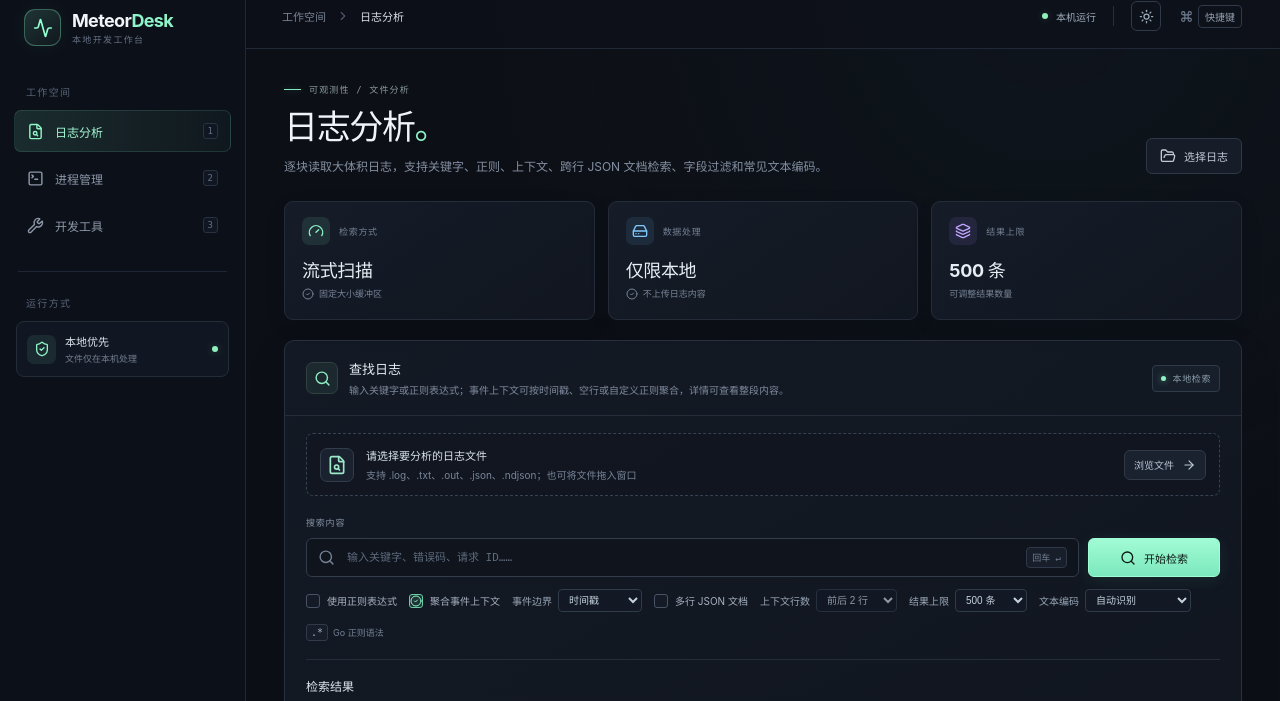
Test: log search options › stores bookmarks locally and can show only bookmarked results
This screenshot has width=1280, height=701.
Click the button "选择日志" at (1194, 156), box left=1146, top=138, right=1242, bottom=174
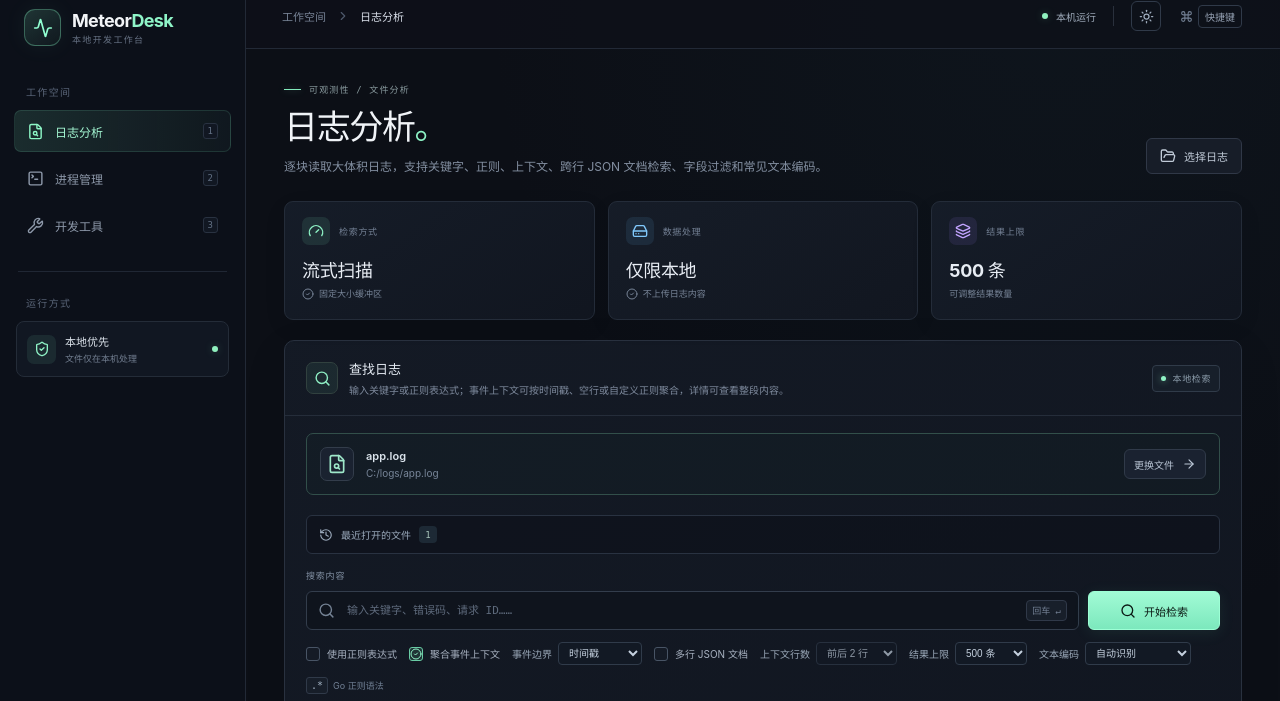
Type "boom" into the field with id "search-query" at (681, 611), box left=345, top=592, right=1016, bottom=629
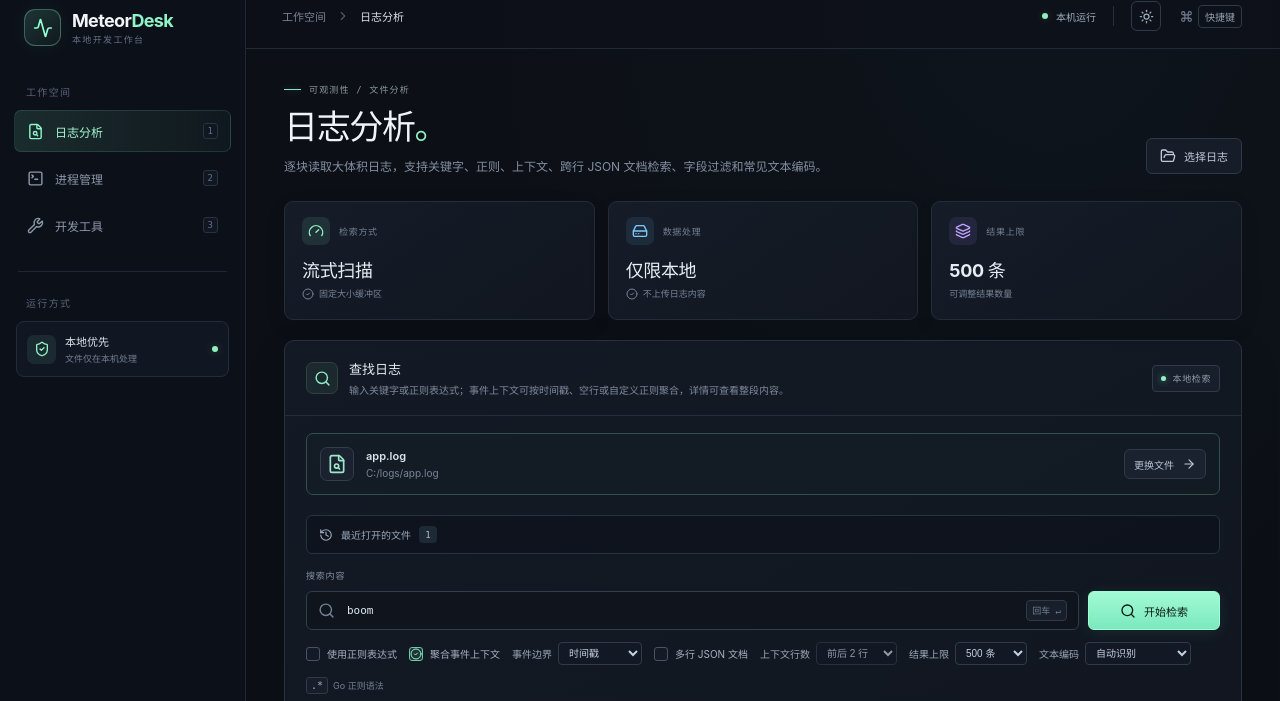
Click the submit button at (1154, 611), box left=1088, top=591, right=1220, bottom=630
(page scrolled)
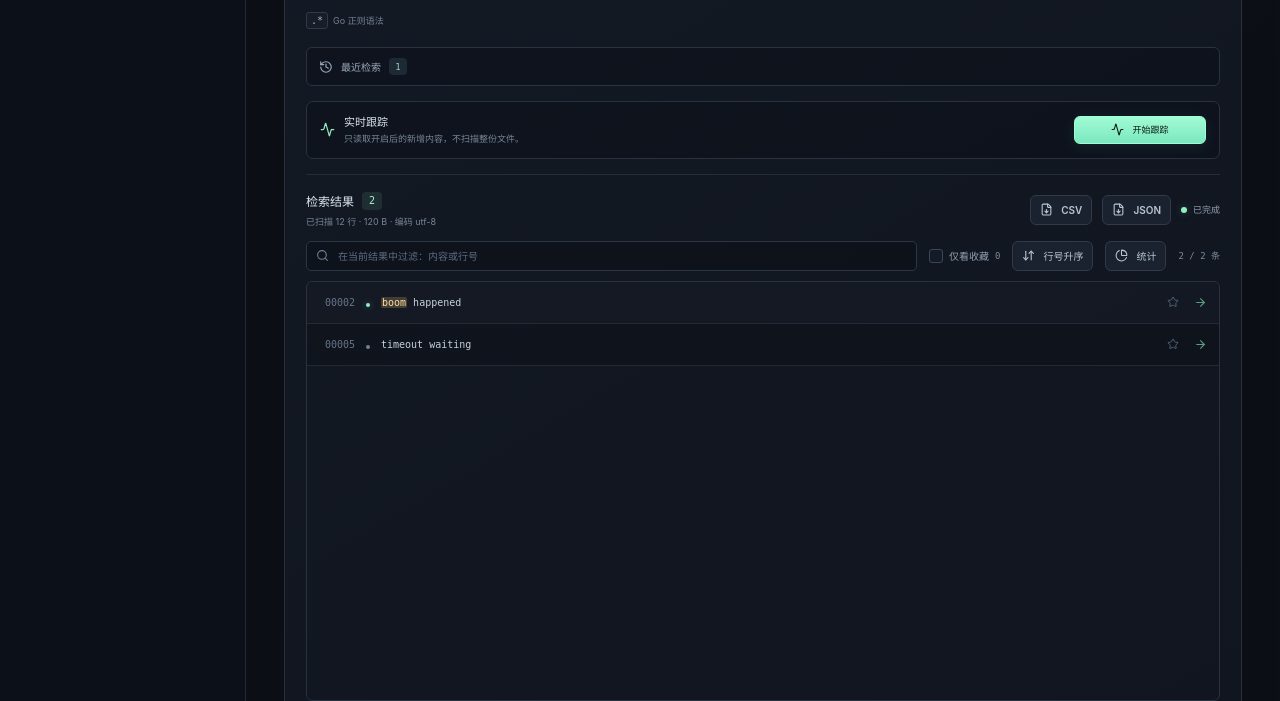
Expected: the number of buttons with class "bookmark-button" is 2
Click the 2nd button with class "bookmark-button" at (1172, 344), box left=1161, top=333, right=1183, bottom=355
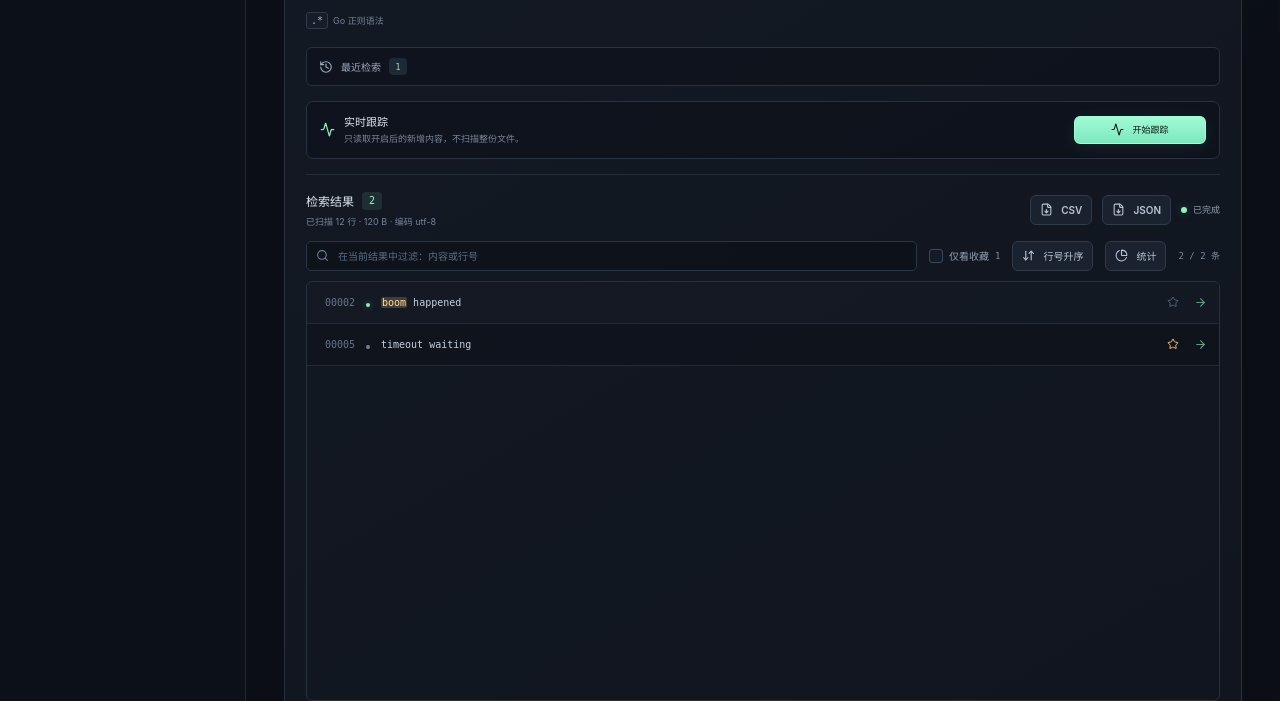
Expected: the button with class "bookmark-button" has class "active", left=1161, top=333, right=1183, bottom=355
Click the checkbox labelled "仅看收藏 1" at (965, 256), box left=929, top=248, right=1000, bottom=263
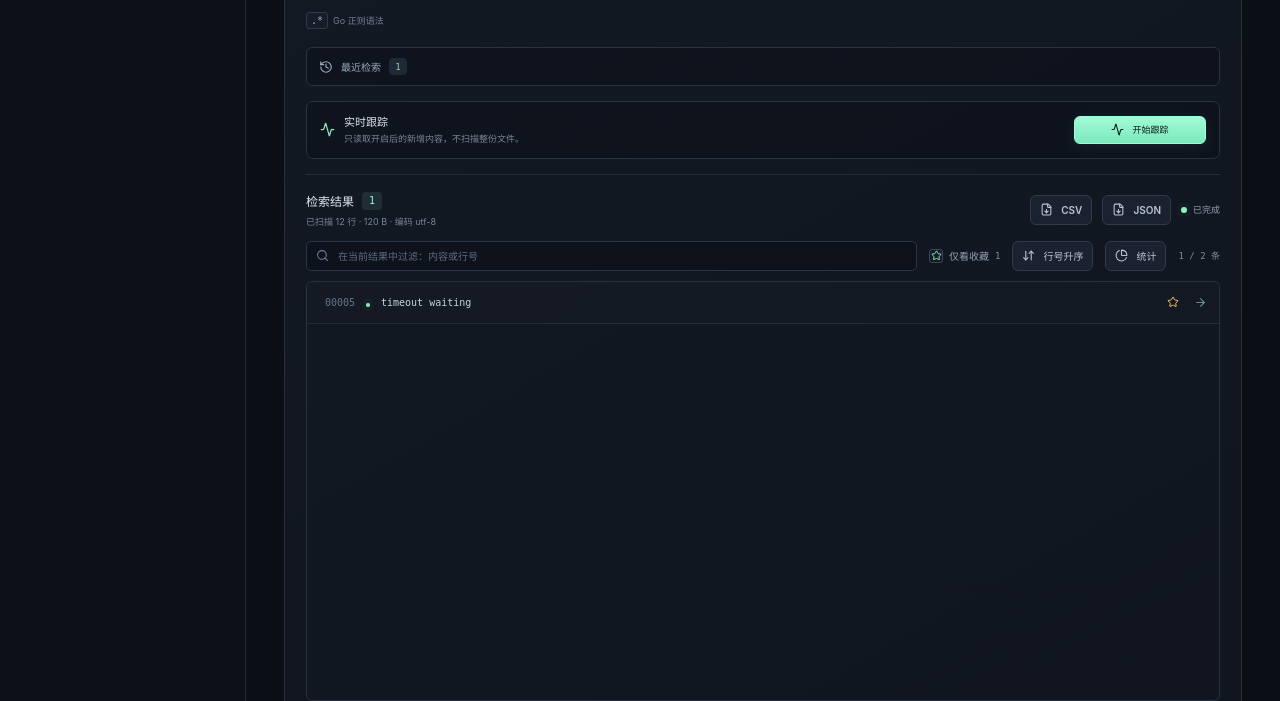
Expected: the button with class "result-row" shows "timeout waiting", left=307, top=282, right=1219, bottom=324
Expected: the number of buttons with class "result-row" is 1, left=307, top=282, right=1219, bottom=324
